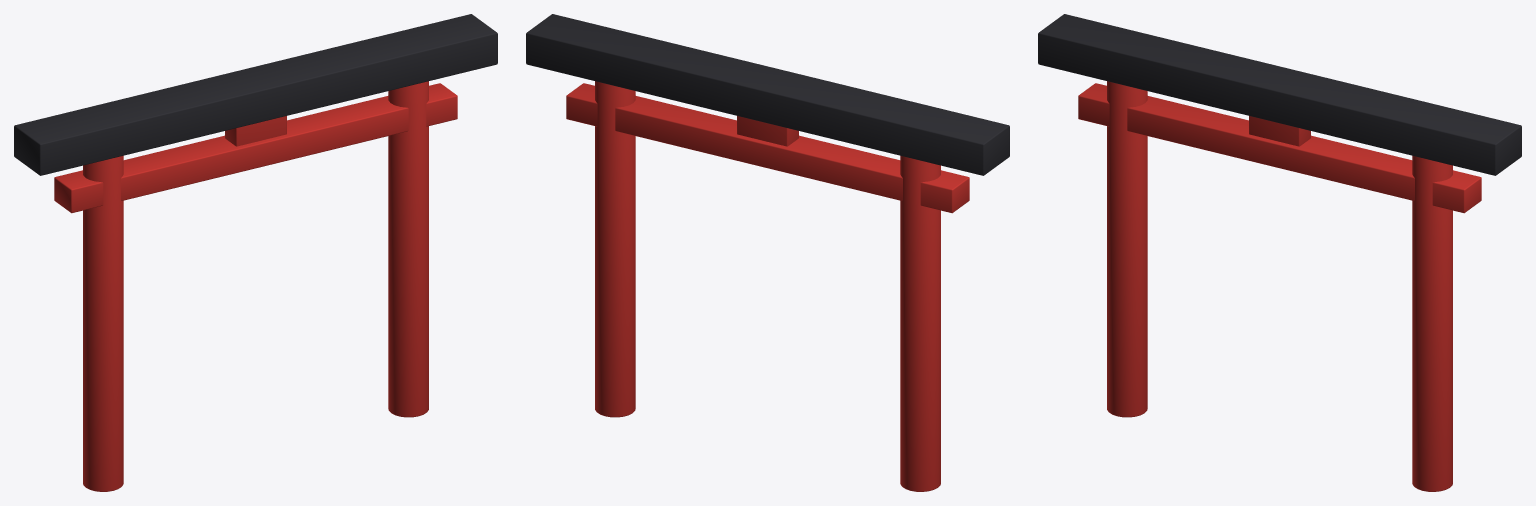
Rendered from rg_japao_3.glb.
3 views of the same model, side by side, from view 1: azimuth 30°, elevation 25°; view 2: azimuth 150°, elevation 25°; view 3: azimuth 330°, elevation 25° (orthographic).
Visible parts, largest first — view 1: rg_japao_3; view 2: rg_japao_3; view 3: rg_japao_3.
Boxes of the visible parts, bbox=[...] form: rg_japao_3: bbox=[14, 14, 497, 491]; rg_japao_3: bbox=[526, 14, 1009, 491]; rg_japao_3: bbox=[1038, 14, 1521, 491].
Bounding box in the file's own units: 9 × 6.9 × 0.9.
